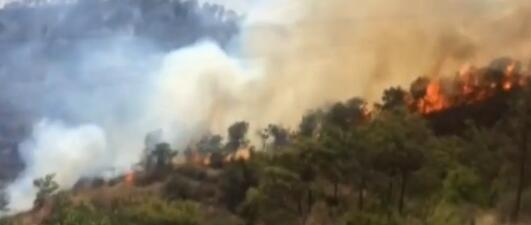fire: (414, 60, 519, 114)
yanwu: (0, 1, 275, 214), (240, 0, 531, 135)
